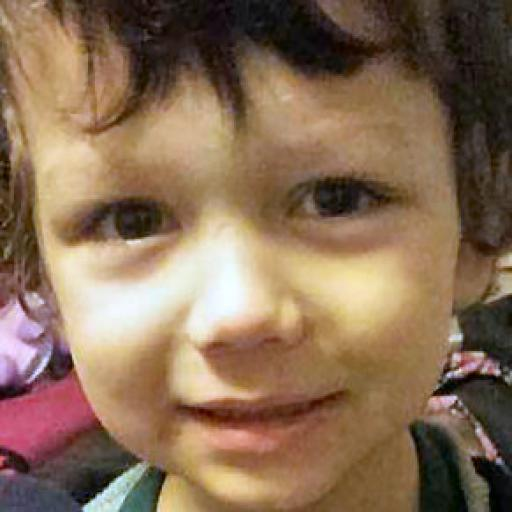Autism: (7, 2, 512, 488)
